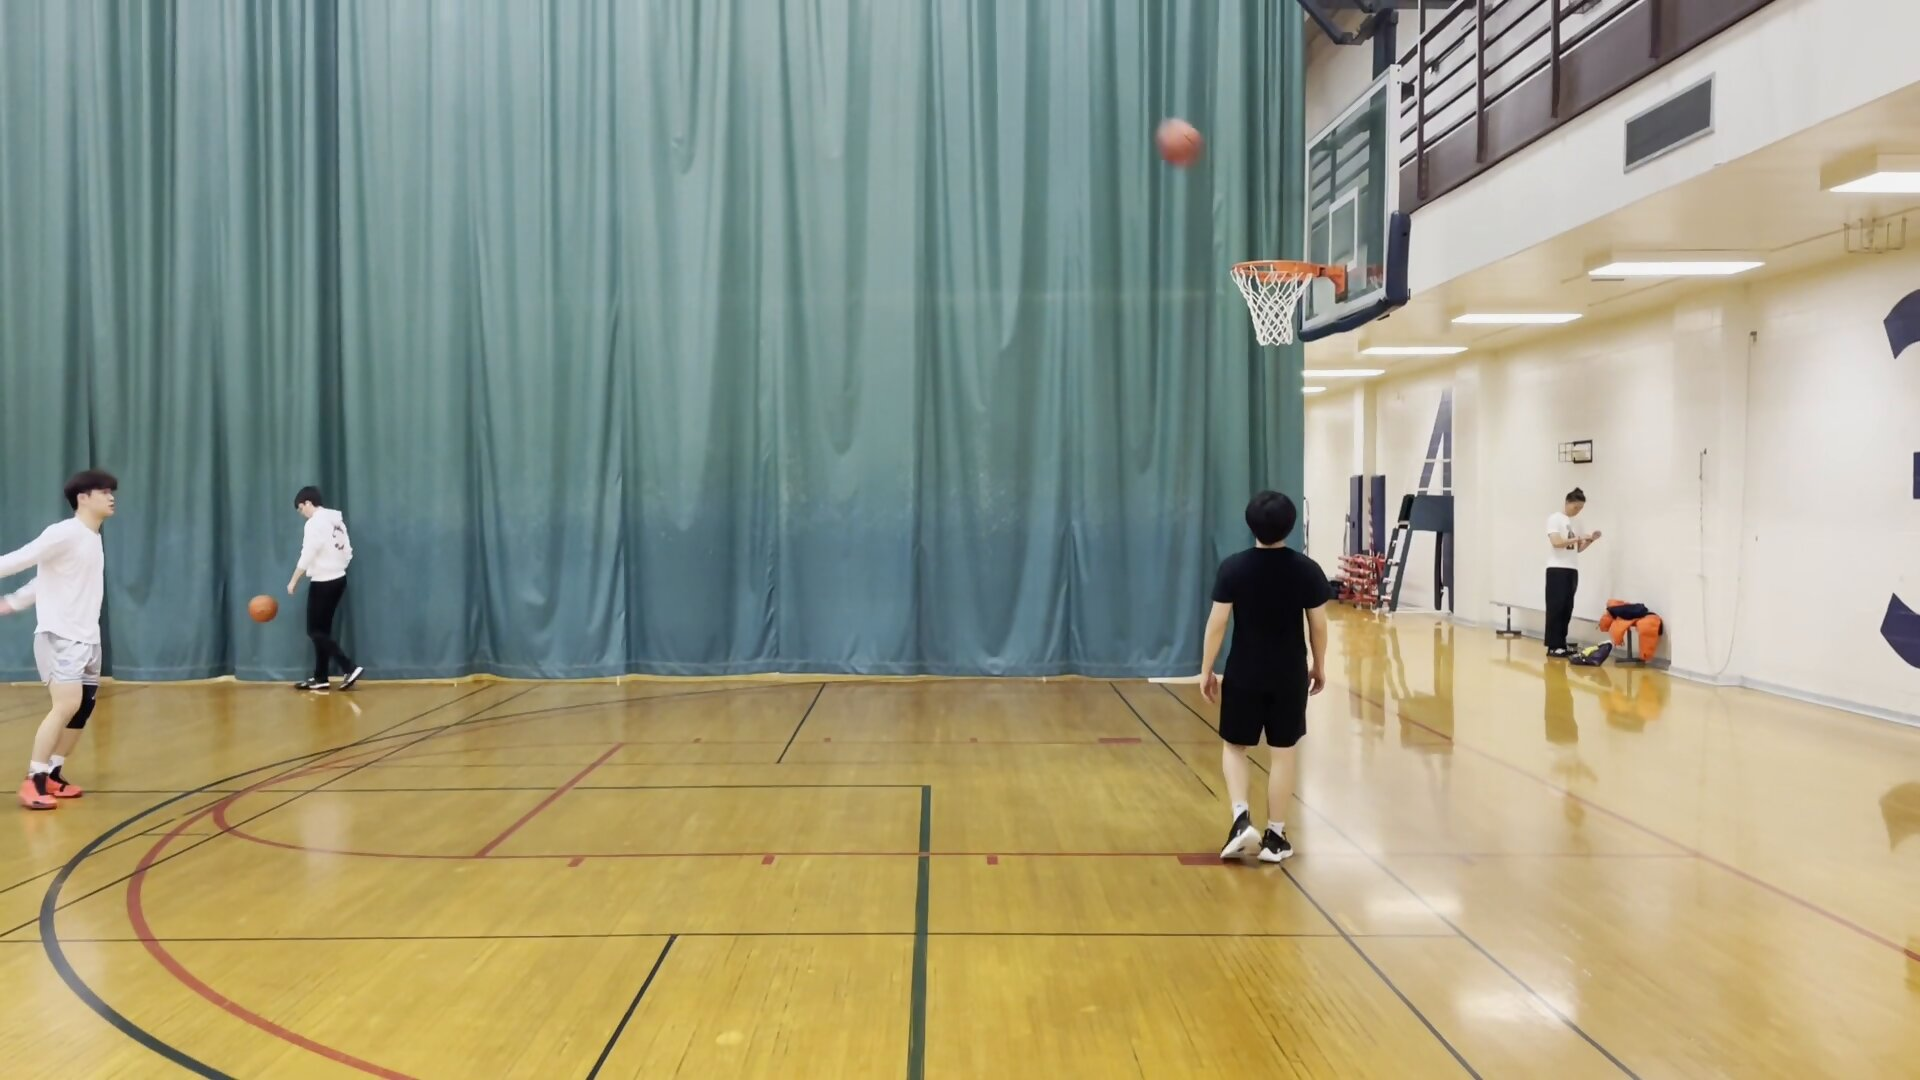ball: (1148, 108, 1208, 173), (243, 592, 283, 626)
net: (1244, 320, 1306, 354)
player: (1197, 486, 1333, 868), (3, 465, 125, 812), (281, 484, 374, 702), (1540, 484, 1601, 662)
rim: (1226, 254, 1327, 289)
